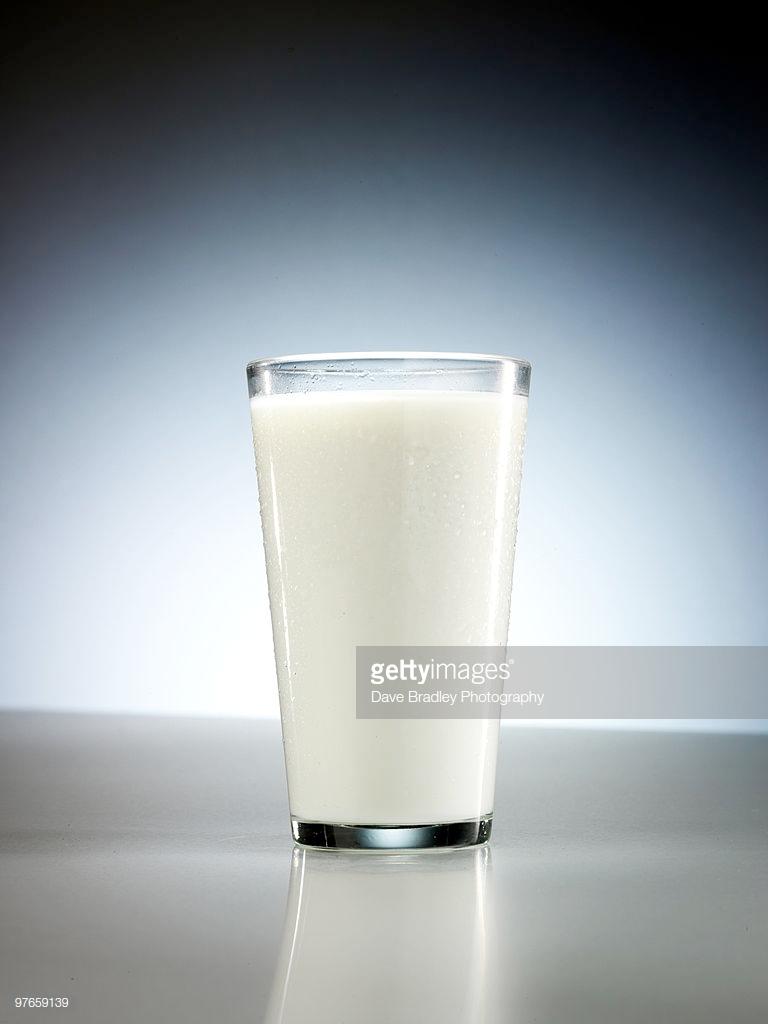glass of milk: (243, 362, 422, 869)
